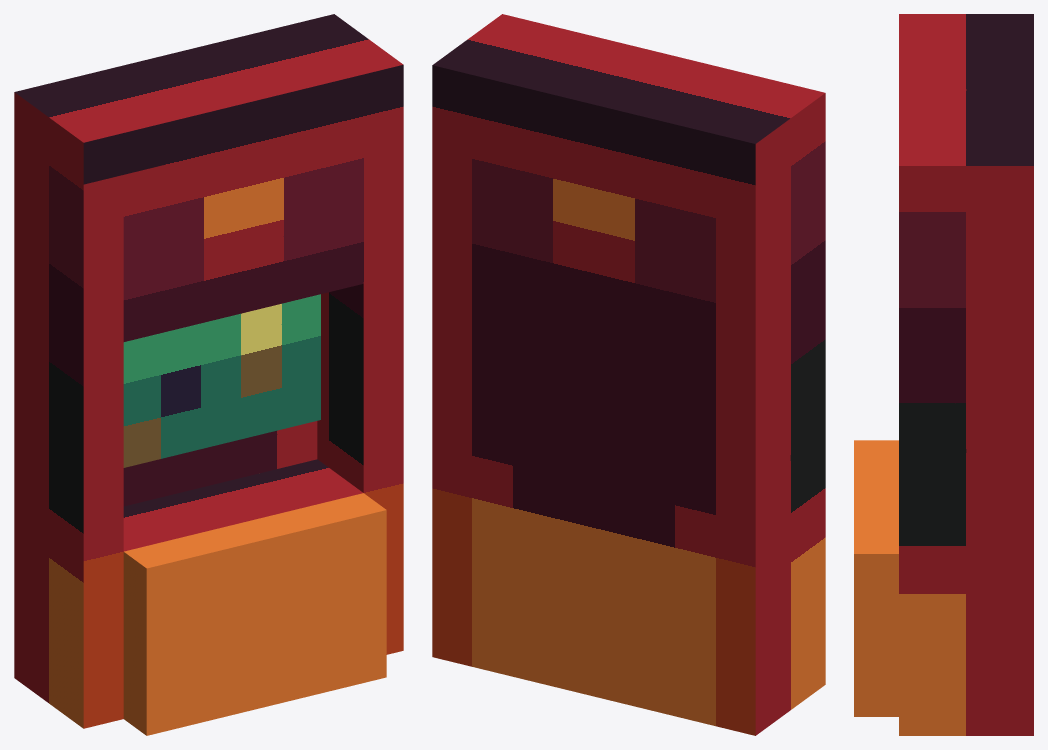
The model's file is fire_alarm_circuit_unwired.glb.
3 views of the same model, side by side, from view 1: azimuth 30°, elevation 25°; view 2: azimuth 150°, elevation 25°; view 3: azimuth 270°, elevation 25° (orthographic). The views are drawn at different scales.
Visible parts, largest first — view 1: Continuous_Housing, Pull_Handle, Removable_Circuit_Board; view 2: Continuous_Housing; view 3: Continuous_Housing, Pull_Handle.
Part boxes in pixels (box(x1,y1,x2,y2)): Continuous_Housing: box(14, 14, 403, 728); Pull_Handle: box(123, 493, 386, 735); Removable_Circuit_Board: box(123, 294, 320, 467); Continuous_Housing: box(432, 14, 825, 735); Continuous_Housing: box(899, 14, 1033, 735); Pull_Handle: box(854, 440, 898, 716).
Bounding box in the file's own units: 0.225 × 0.3938 × 0.1125.
Materials: 1 (1 with a texture image).
